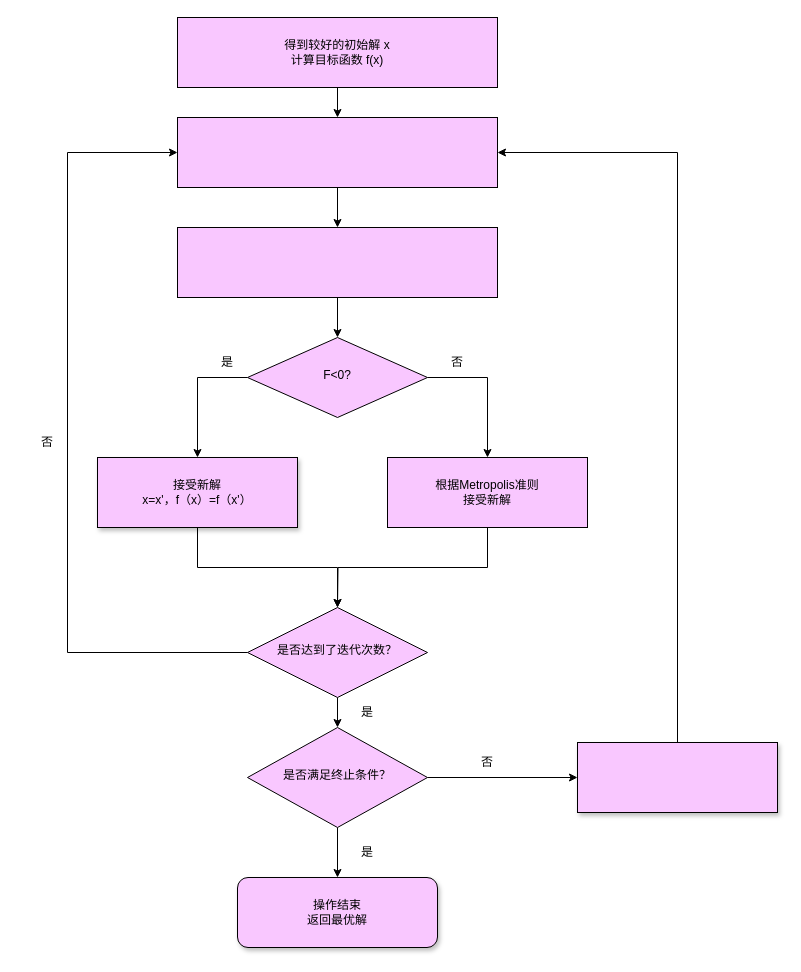
This 801x972 diagram has some shape labels left out. The centre of each missing label's shape, as x and y in pixels:
"F=f(x')-f(x)" belongs at point (337, 262).
"扰动产生新的解 x' 计算目标函数 f(x')" belongs at point (337, 152).
"缓慢降低温度 重复多次" belongs at point (678, 779).
